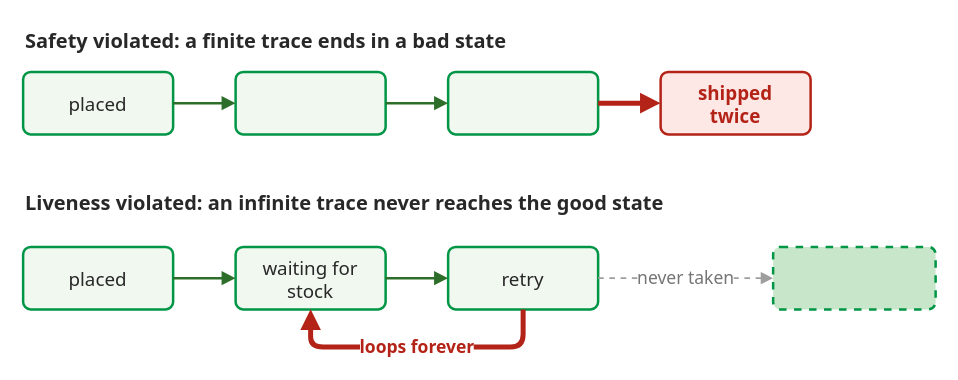
Some shapes in this 958 by 380 pixel diagram are drawn without their labels. The shapes that lost their labels are listed below. From the top down, each one's centre as x and y in pixels, then its label:
At pixel 310 102: "paid".
At pixel 522 102: "shipped".
At pixel 853 277: "confirmed or rejected".
